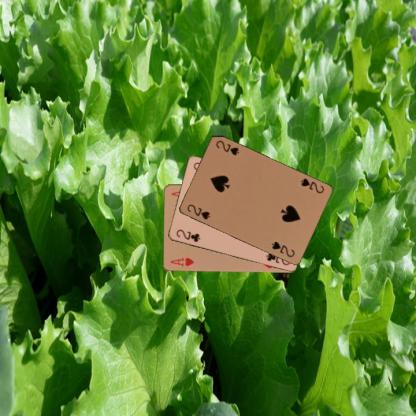2c: (173, 227, 201, 243)
2s: (184, 202, 211, 221), (298, 176, 325, 194)
Ah: (168, 255, 194, 268)
